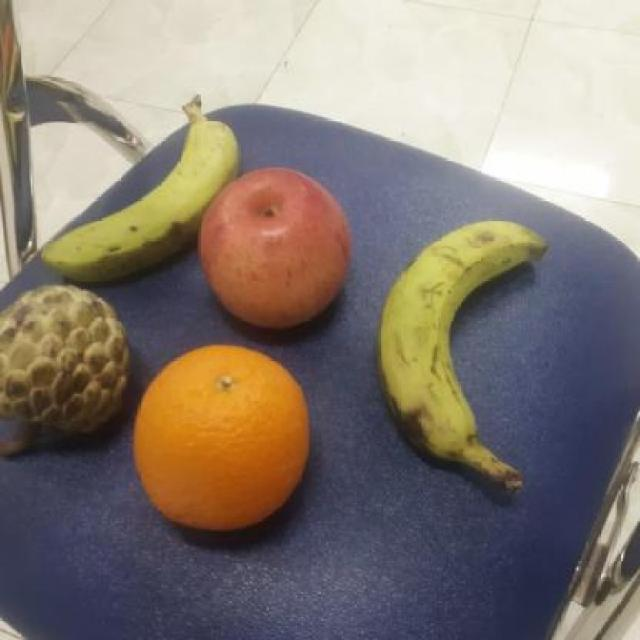apple: (196, 166, 356, 331)
banana: (376, 208, 550, 461), (39, 115, 242, 279)
oren: (132, 340, 312, 534)
sugar apple: (0, 279, 138, 435)
